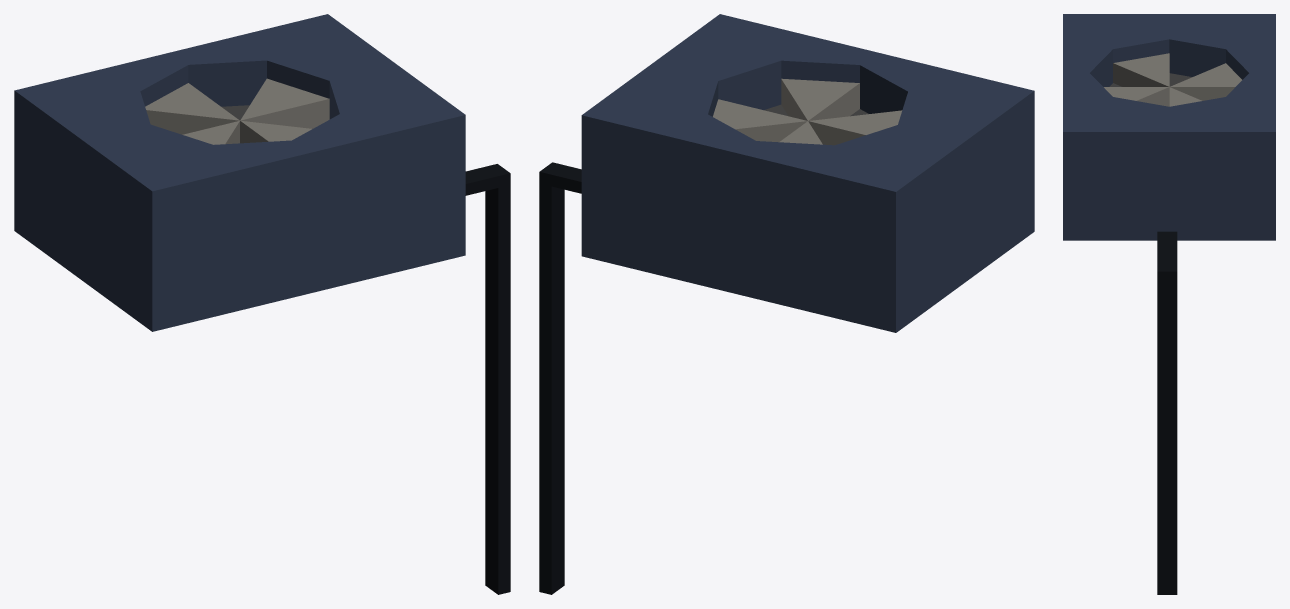
File: air_conditioning_01.fbx
3 views of the same model, side by side, from view 1: azimuth 30°, elevation 25°; view 2: azimuth 150°, elevation 25°; view 3: azimuth 270°, elevation 25° (orthographic). The views are drawn at different scales.
Parts seen in each view (by area): view 1: air_conditioning, air_conditioning_fan; view 2: air_conditioning, air_conditioning_fan; view 3: air_conditioning, air_conditioning_fan.
Part boxes in pixels (left/top/right/bottom): air_conditioning: left=14, top=14, right=510, bottom=594; air_conditioning_fan: left=145, top=78, right=329, bottom=144; air_conditioning: left=539, top=14, right=1034, bottom=594; air_conditioning_fan: left=713, top=78, right=902, bottom=145; air_conditioning: left=1063, top=14, right=1275, bottom=594; air_conditioning_fan: left=1104, top=53, right=1241, bottom=106.
Size of the model in its own units: 224 by 280 by 128.
Materials: 1 (1 with a texture image).
